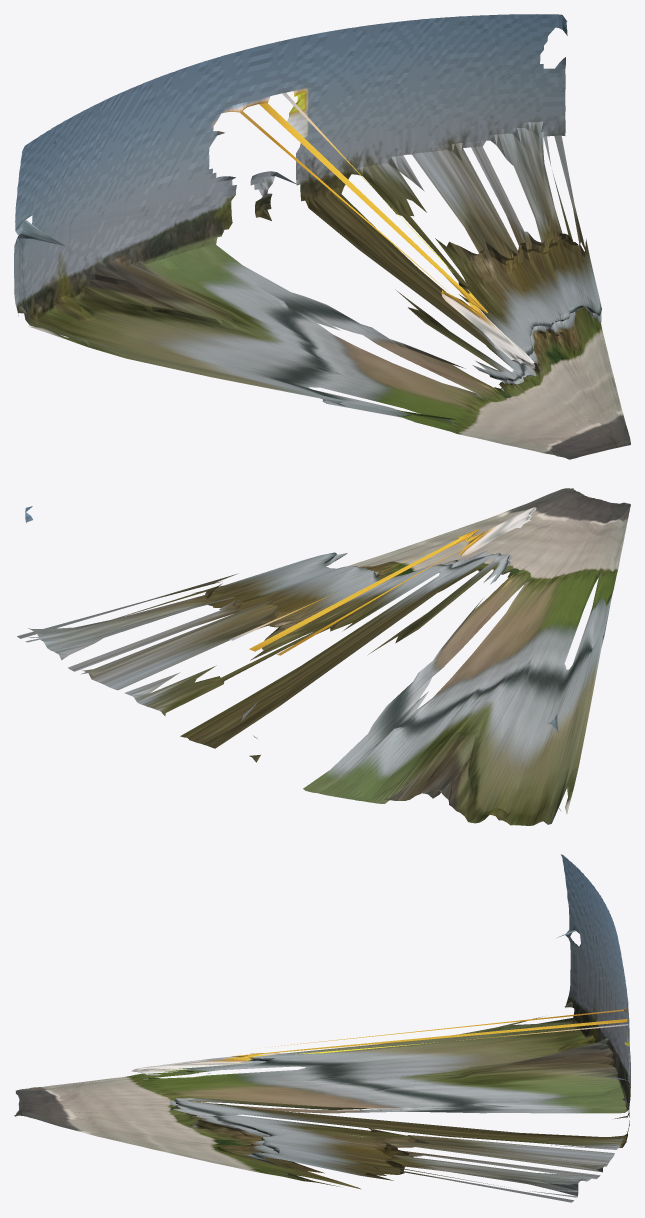
The picture shows the model from 3 angles, top to bottom: view 1: azimuth 30°, elevation 25°; view 2: azimuth 150°, elevation 25°; view 3: azimuth 270°, elevation 25°; orthographic projection. The views are drawn at different scales.
Parts seen in each view (by area): view 1: defaultobject; view 2: defaultobject; view 3: defaultobject.
Boxes of the visible parts, bbox=[...] form: defaultobject: bbox=[14, 14, 630, 459]; defaultobject: bbox=[17, 488, 630, 825]; defaultobject: bbox=[14, 854, 630, 1202].
Bounding box in the file's own units: 41.16 × 14.25 × 44.71.
Materials: 1 (1 with a texture image).
